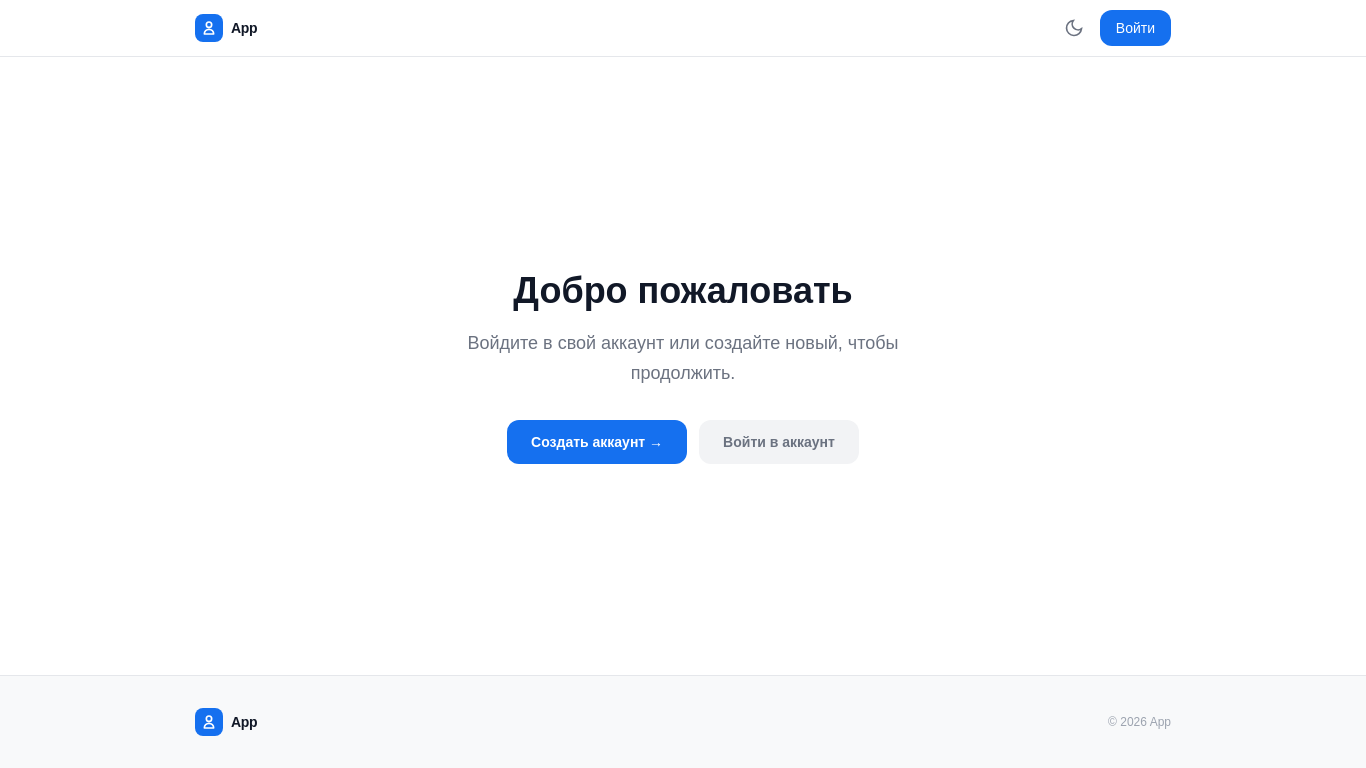
Home + AuthModal (login/register/forgot) › клик «Забыли пароль» переключает в режим forgot
Step 1. Click the button "Войти" → (1135, 28), box [1100, 10, 1171, 46]
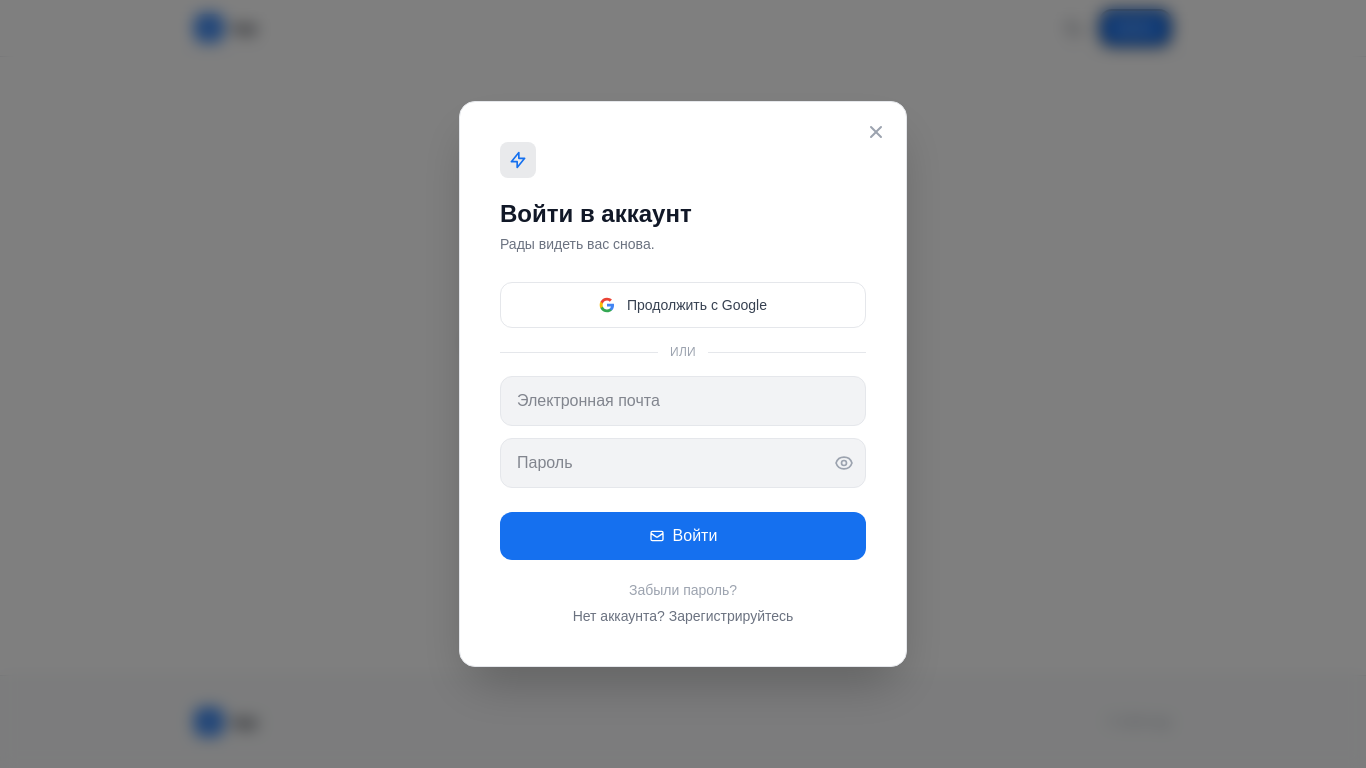
Step 2. Click the button "Забыли пароль?" → (683, 590), box [500, 580, 866, 600]
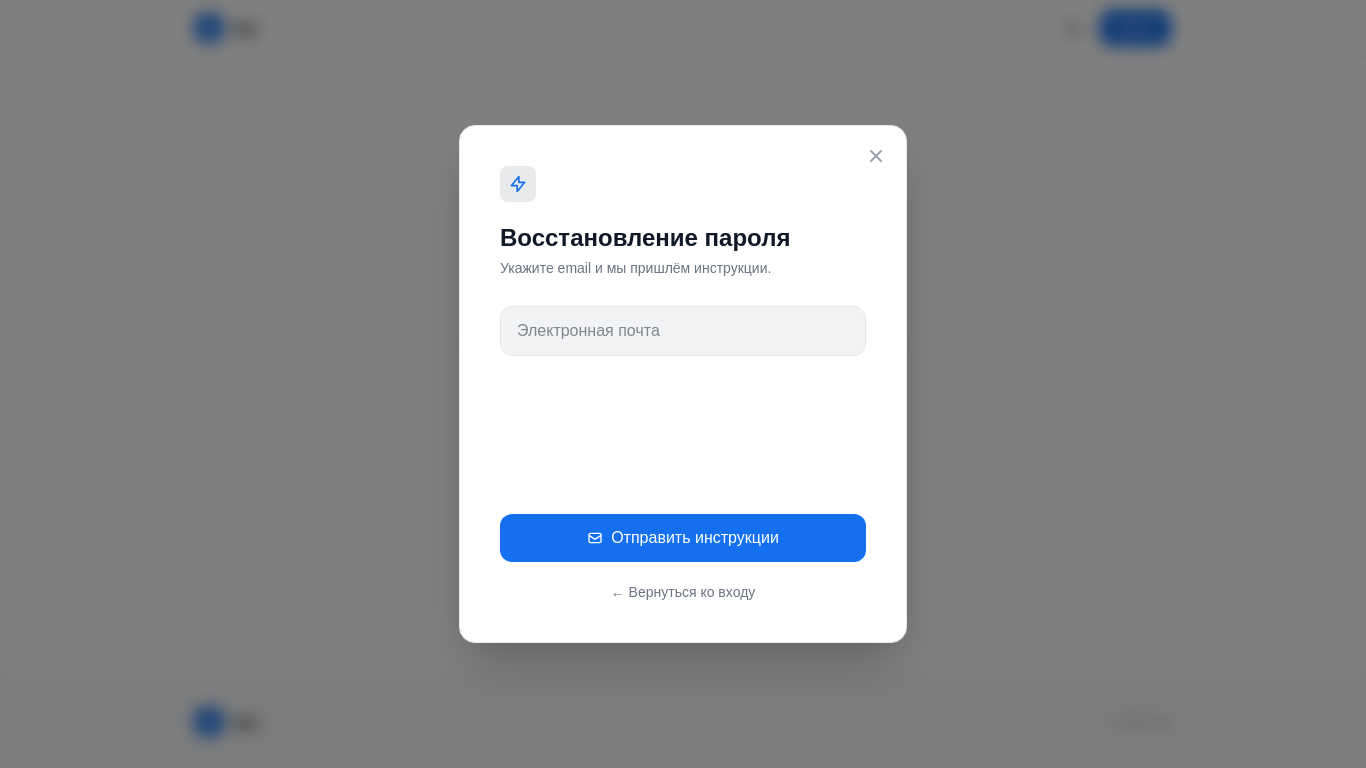
Expected: the field with placeholder "пароль" is not shown
Expected: the heading "Восстановление пароля" is shown, [500, 224, 790, 251]
